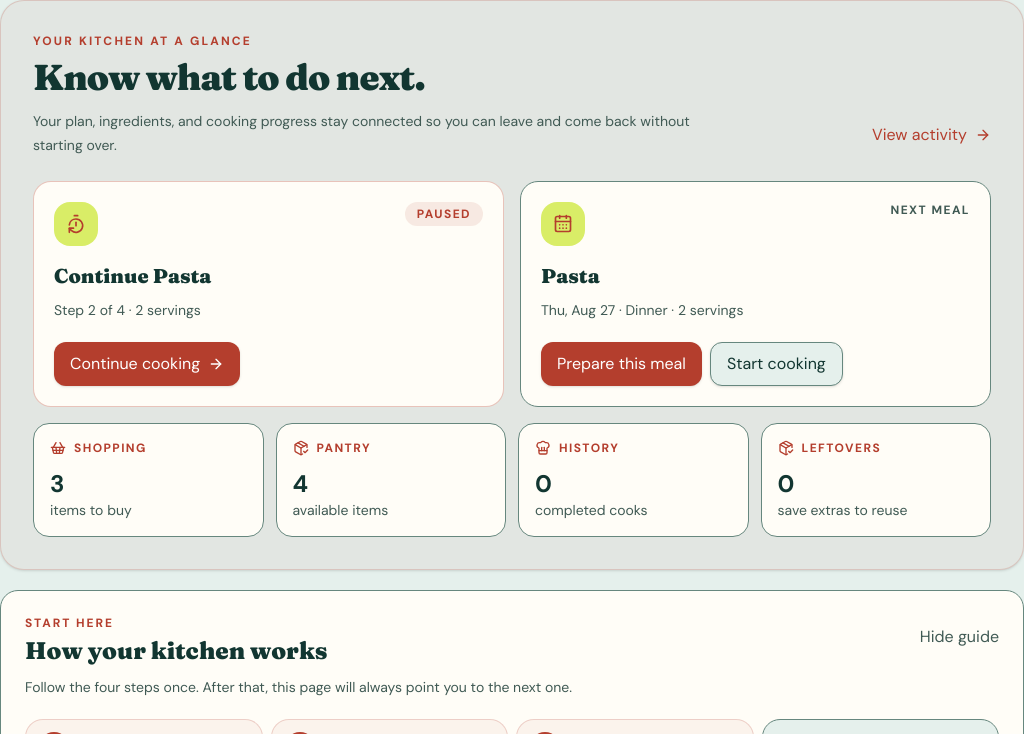
Test: KitchenCommandCenter › persists guide dismissal per user
Click the button "Hide guide".
click(959, 637)  # box [920,615,999,659]
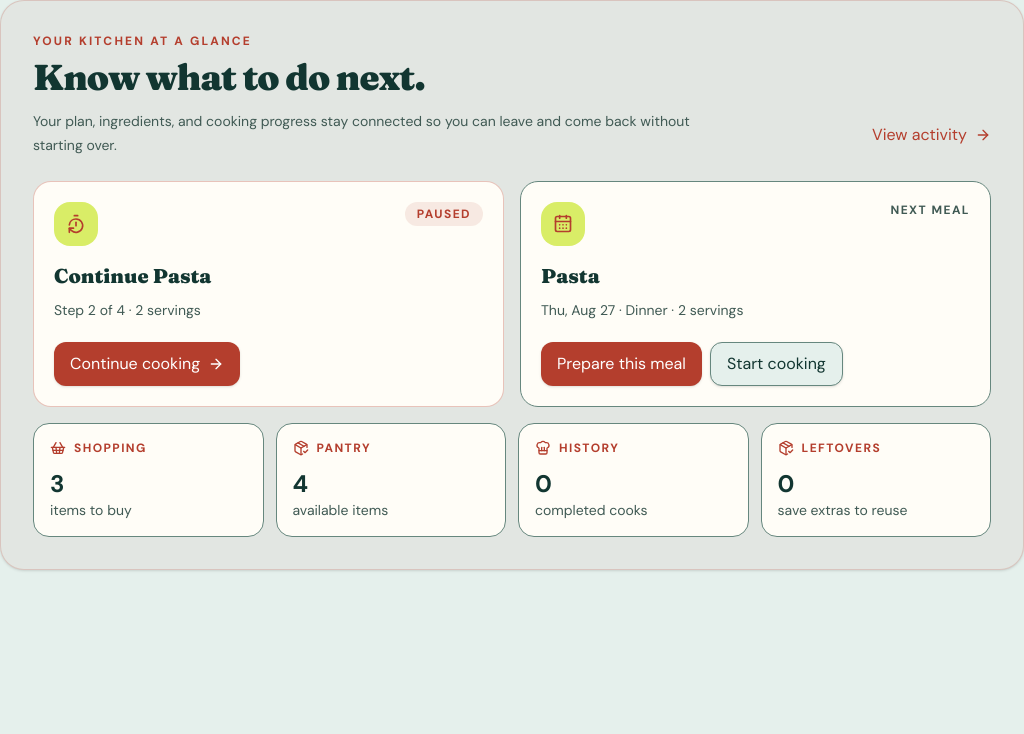
Check: the heading "How your kitchen works" is gone
